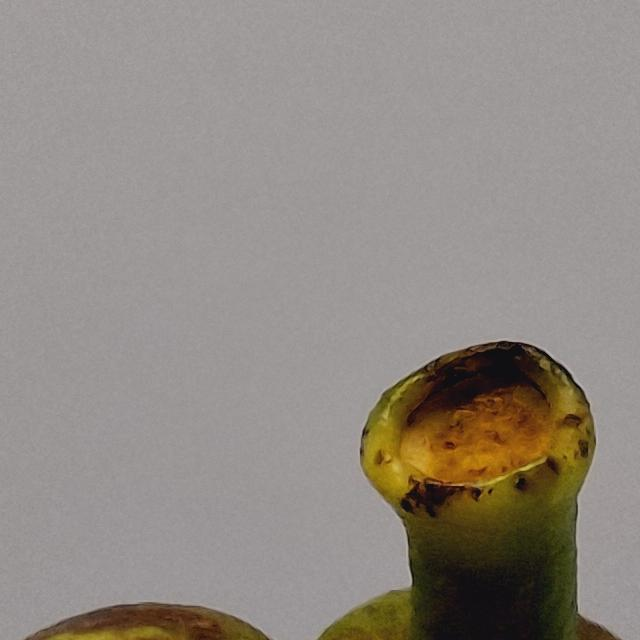mangosteen: (0, 300, 640, 640)
